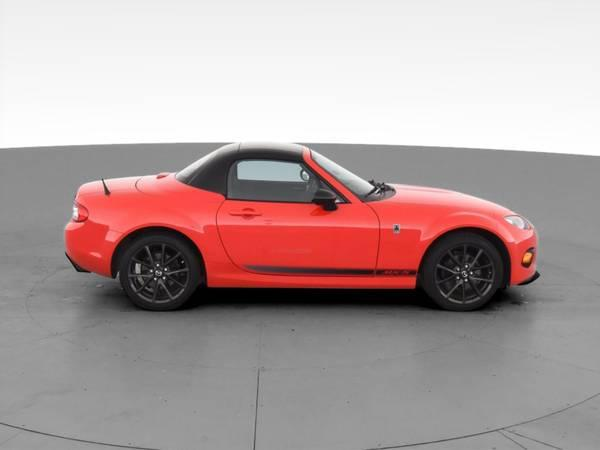Front_Bumper: (507, 231, 540, 287)
Front_Fender: (365, 203, 534, 290)
Front_Right_Door: (217, 199, 380, 287)
Front_Right_Window: (228, 159, 349, 203)
Hood: (367, 182, 516, 218)
Rear_Bumper: (63, 220, 128, 276)
Rear_Fender: (77, 185, 241, 287)
Right_Headlight: (505, 211, 535, 229)
Right_Taillight: (70, 198, 86, 223)
Roof: (174, 137, 363, 202)
Tailgate: (75, 169, 179, 198)
Wheel: (425, 234, 509, 315), (117, 232, 199, 308)
